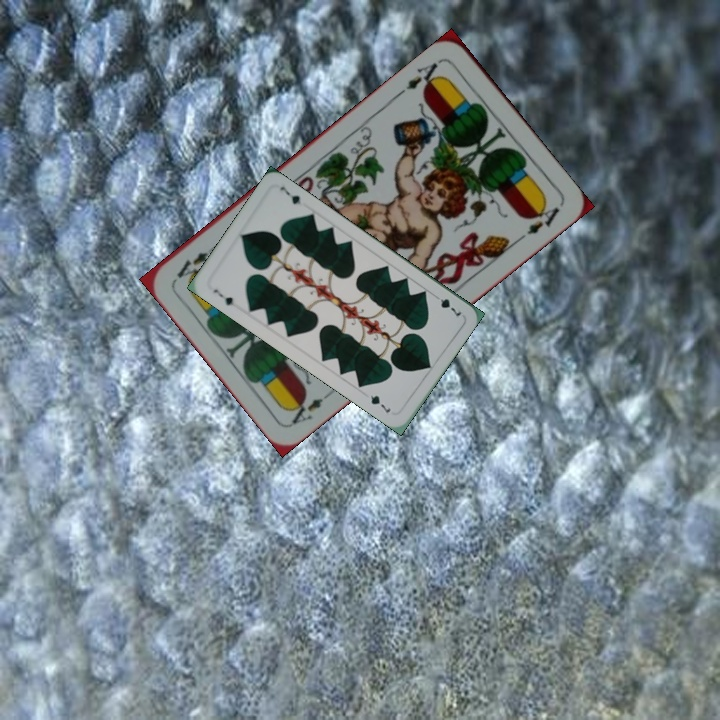EA: (285, 385, 337, 427), (401, 58, 445, 95)
G7: (429, 290, 464, 319), (209, 285, 240, 311)
